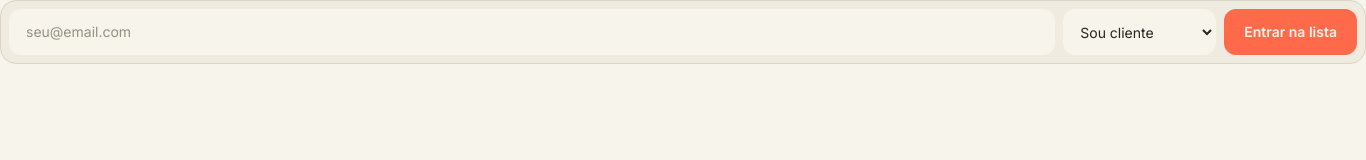
WaitlistForm › submits the email and role, then shows a success message
The image size is (1366, 160).
Type "ana@example.com" into the field named "seu email". click: point(532, 32)
box: [9,9,1055,55]
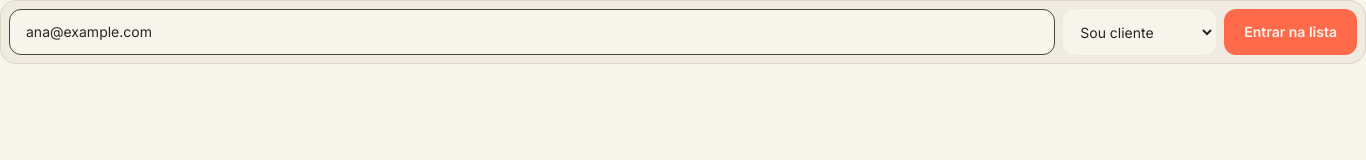
Select "Sou profissional" in the dropdown named "você é cliente ou profissional". click: point(1140, 32)
box: [1063,9,1216,55]
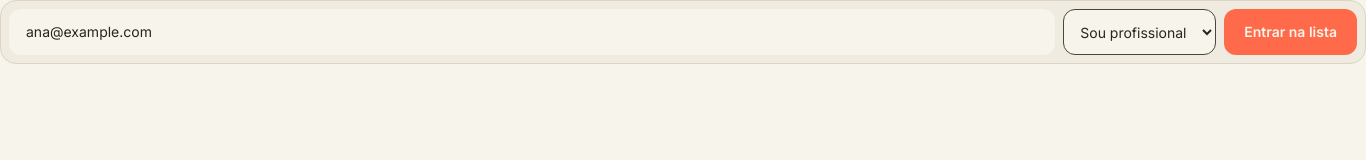
Click the button "Entrar na lista". click: point(1291, 32)
box: [1224,9,1357,55]
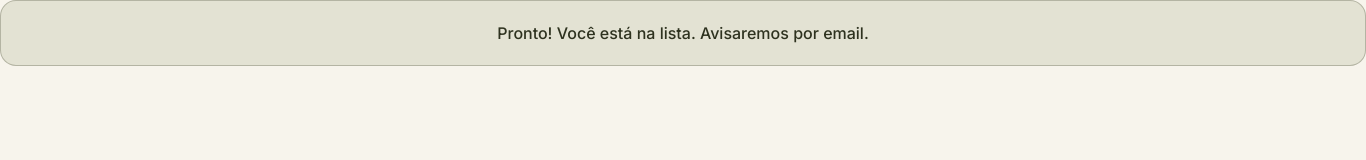
Expected: the text "Pronto! Você está na lista. Avisaremos por email." is shown, [497,23,869,43]
